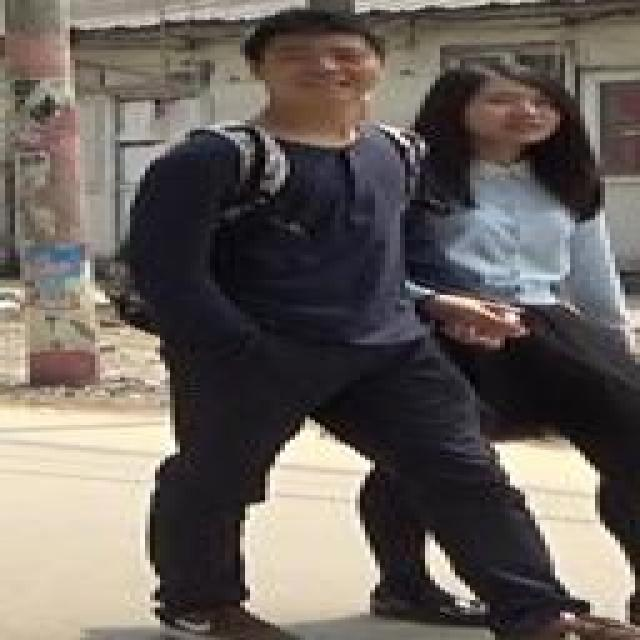adult: (96, 21, 530, 622), (408, 61, 640, 620)
